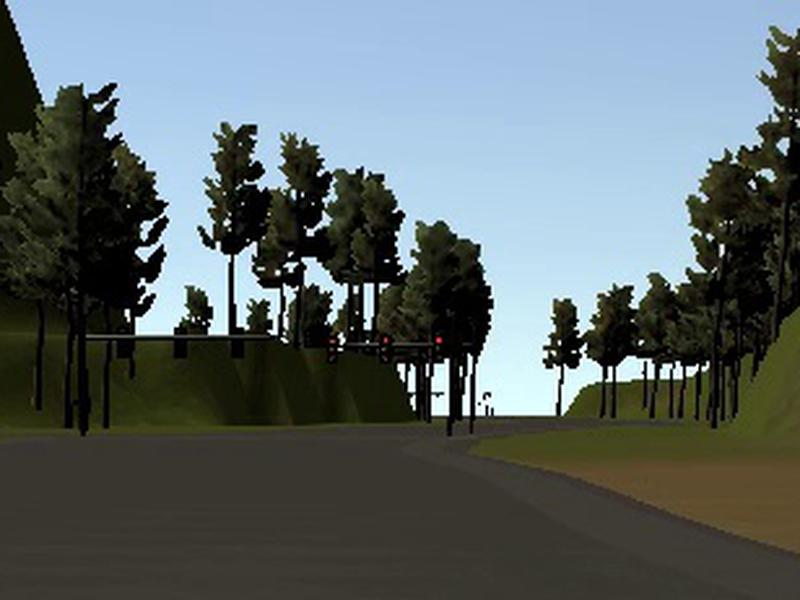Red: (378, 332, 393, 364), (431, 333, 444, 364), (327, 334, 338, 364)
